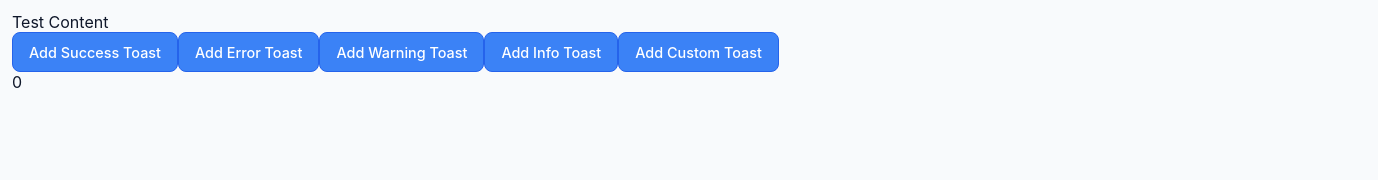
ToastContext › should add warning toast
The width and height of the screenshot is (1378, 180).
Click the button with test id "add-warning-button" at (402, 52), box [320, 32, 484, 72]
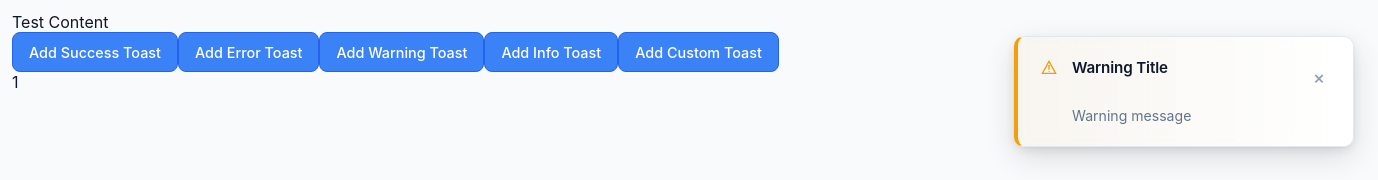
Result: the element with class "toast-warning" is shown at [1014, 36, 1354, 147]
Result: the element with class "toast-warning" shows "Warning Title" at [1072, 58, 1168, 77]
Result: the element with class "toast-warning" shows "Warning message" at [1072, 107, 1191, 124]
